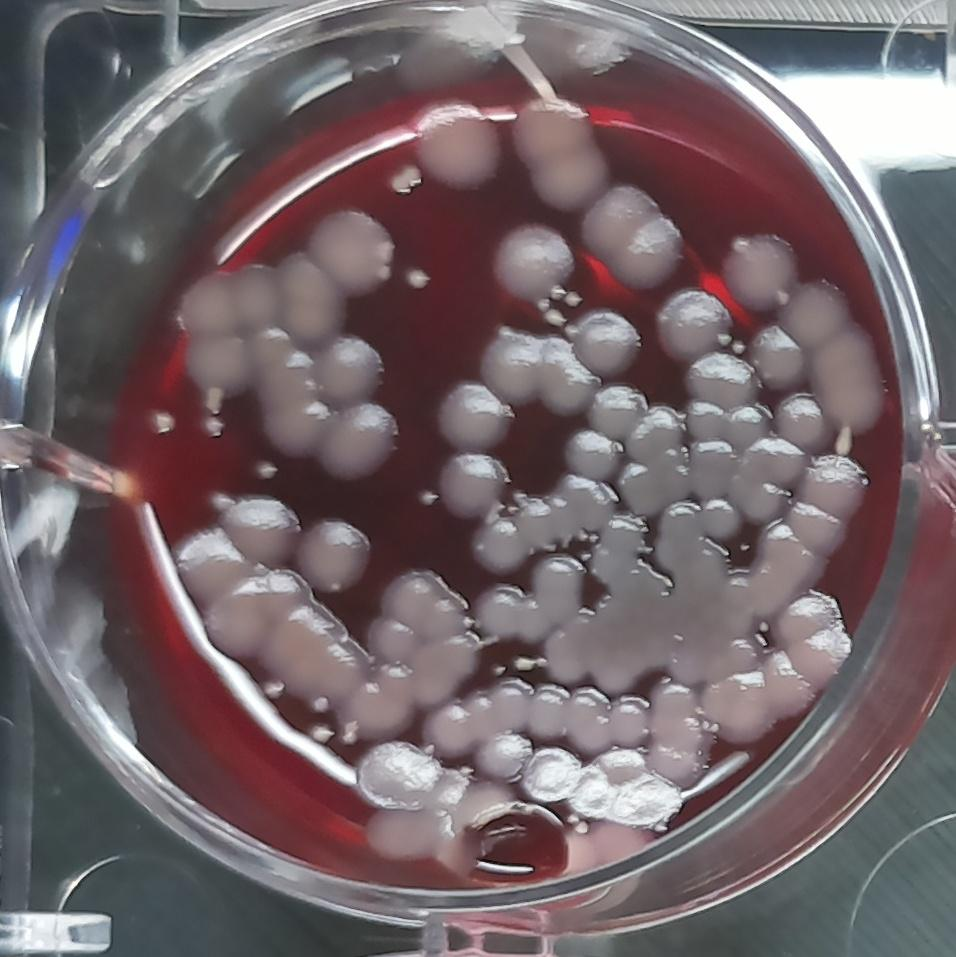staphylo-: (388, 162, 423, 195), (148, 409, 177, 437), (203, 382, 227, 414), (406, 267, 433, 292), (339, 716, 361, 746), (210, 490, 235, 512), (309, 723, 334, 744), (256, 459, 278, 482), (263, 678, 285, 701), (310, 695, 333, 716), (512, 655, 535, 674), (204, 417, 225, 437), (546, 307, 565, 329), (731, 235, 750, 254), (455, 763, 475, 779), (567, 290, 583, 309), (421, 489, 438, 506), (774, 289, 791, 306), (549, 283, 563, 302), (731, 340, 746, 356), (512, 489, 528, 504), (535, 297, 550, 312), (491, 664, 506, 679), (535, 657, 550, 671), (718, 332, 731, 348), (579, 551, 593, 564), (589, 532, 599, 545)
